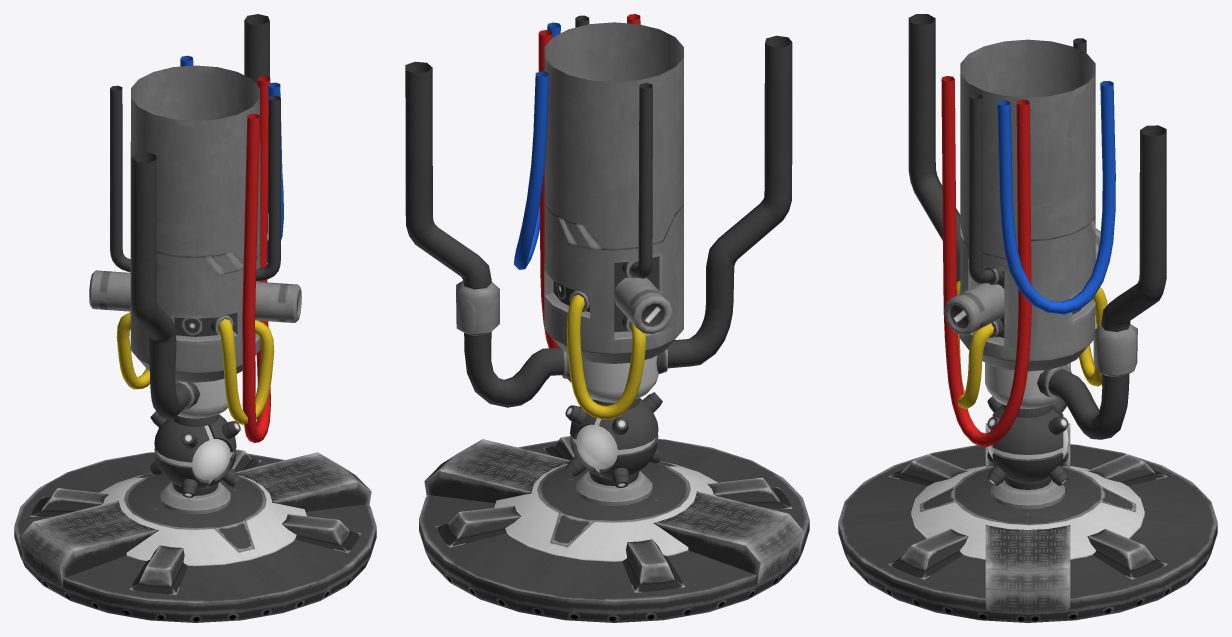
File: Pfb_Soda_JLABCore.fbx
The picture shows the model from 3 angles, left to right: view 1: azimuth 30°, elevation 25°; view 2: azimuth 150°, elevation 25°; view 3: azimuth 270°, elevation 25°; orthographic projection. The views are drawn at different scales.
Parts seen in each view (by area): view 1: MAT_Soda_JLABCore 1; view 2: MAT_Soda_JLABCore 1; view 3: MAT_Soda_JLABCore 1.
Part boxes in pixels (x1,y1,x2,y2): MAT_Soda_JLABCore 1: (14,14,376,622); MAT_Soda_JLABCore 1: (405,14,809,622); MAT_Soda_JLABCore 1: (838,14,1217,622).
Bounding box in the file's own units: 3.73 × 5.05 × 3.65.
Materials: 1 (1 with a texture image).
